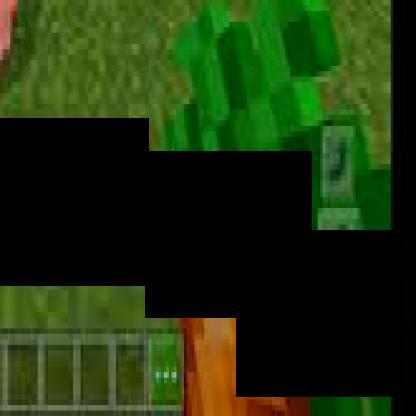minecraft-pigs: (0, 0, 51, 127)
